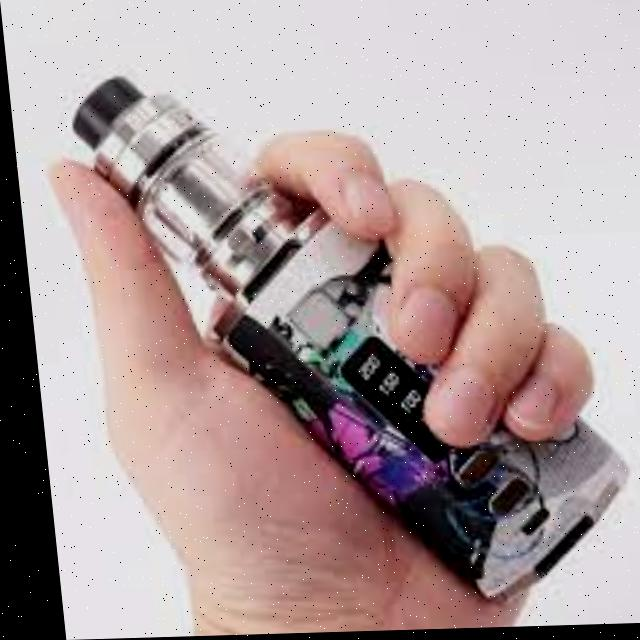vape: (62, 59, 627, 621)
